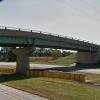Bridge: (3, 21, 94, 74)
